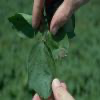Potato leaf late blight: (45, 26, 69, 62)
